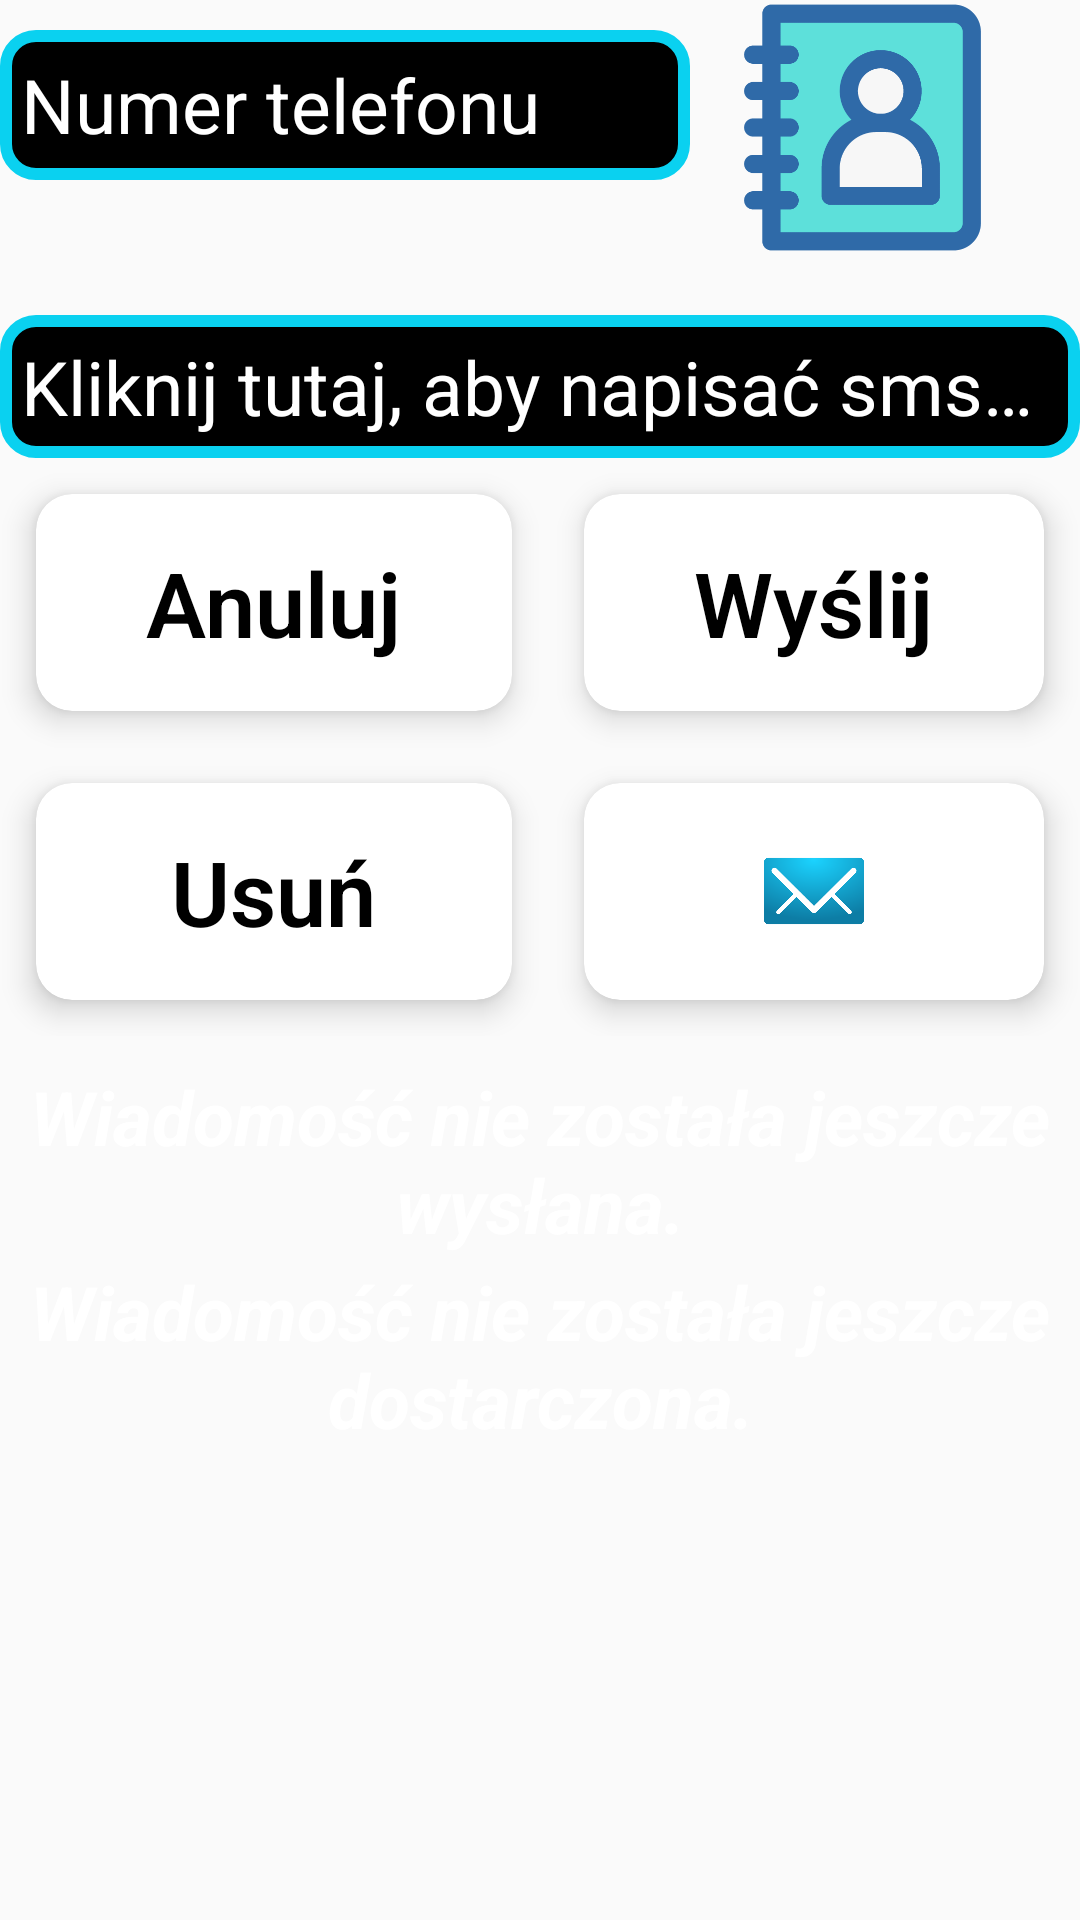

Icons on this 1080 × 1920 Android screen, each with the point to tap as (x,y):
contacts: (862,127)
message: (814,891)
